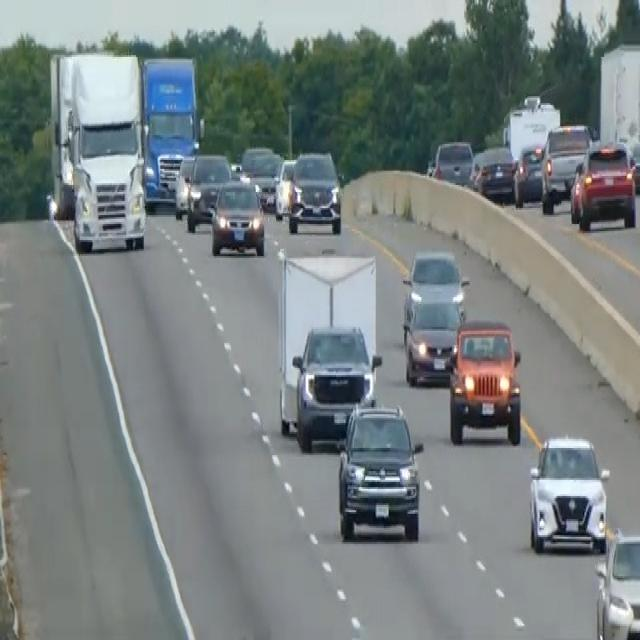car: (290, 320, 378, 450), (527, 432, 610, 553), (447, 316, 522, 446), (402, 282, 464, 386), (569, 139, 636, 231), (401, 247, 465, 331), (594, 526, 639, 638), (286, 148, 342, 235), (540, 121, 592, 211), (210, 174, 265, 256), (185, 151, 231, 231), (471, 143, 521, 205), (432, 137, 474, 187), (514, 140, 544, 204), (249, 151, 282, 208), (173, 153, 196, 217), (273, 156, 296, 218), (239, 142, 272, 174)
jeep: (335, 400, 424, 542)
lorry: (48, 50, 147, 252), (140, 53, 204, 210)
